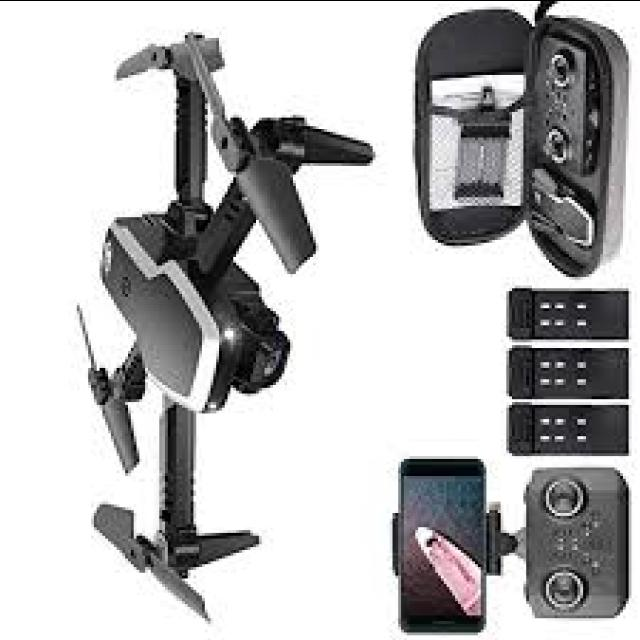drone: (61, 18, 377, 622)
